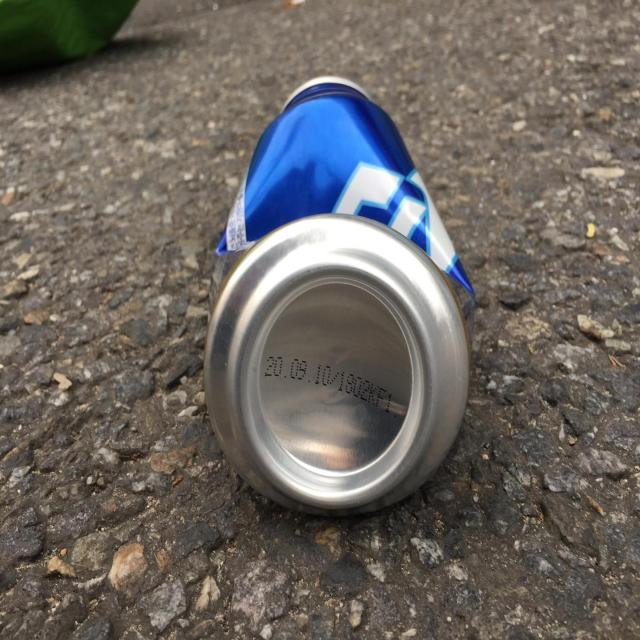can: (204, 76, 475, 515)
